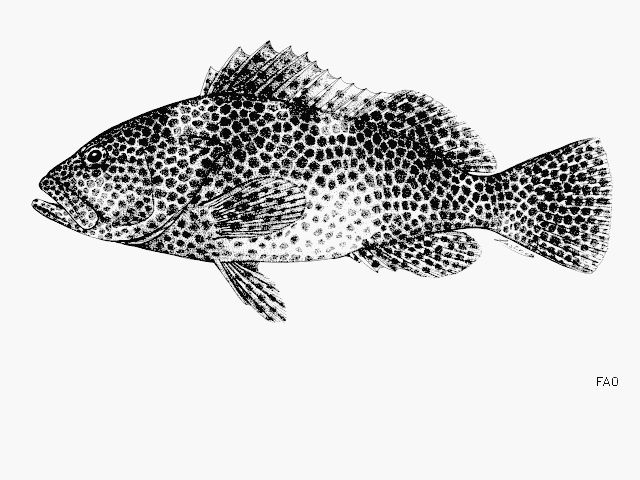fish: (31, 40, 615, 323)
